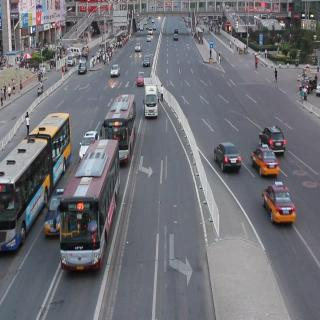BigCar: (1, 106, 69, 266), (62, 133, 120, 281), (102, 94, 136, 166), (143, 78, 160, 119)
Car: (263, 176, 295, 228), (214, 139, 242, 177), (252, 143, 279, 180), (260, 121, 286, 158), (45, 188, 63, 234), (78, 126, 98, 158), (299, 73, 315, 96), (135, 70, 145, 89), (110, 61, 120, 78), (78, 59, 87, 76), (66, 54, 77, 66), (143, 55, 150, 68), (135, 42, 142, 52), (145, 33, 152, 43), (173, 32, 179, 42)
